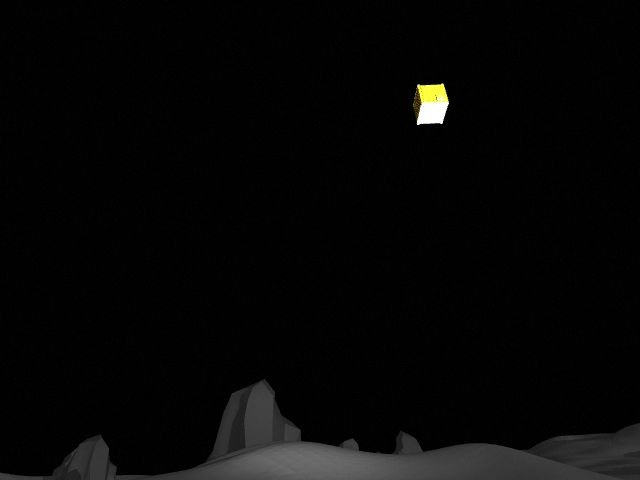cubesat: (411, 78, 452, 130)
